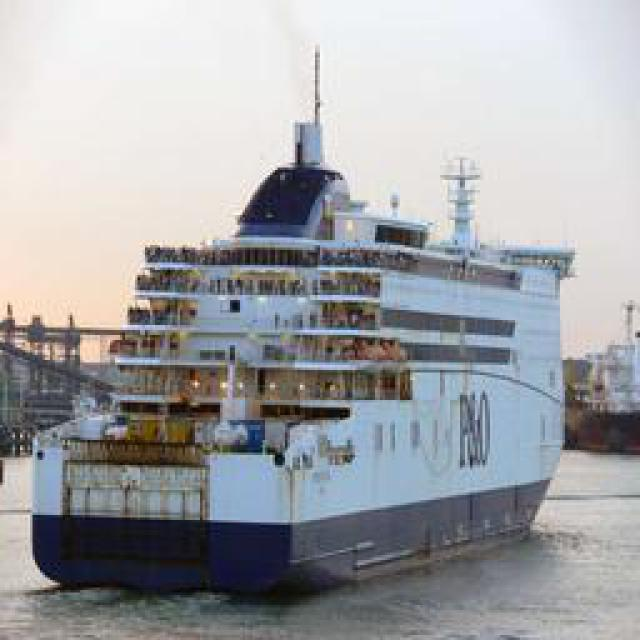Ship: (8, 54, 576, 589)
